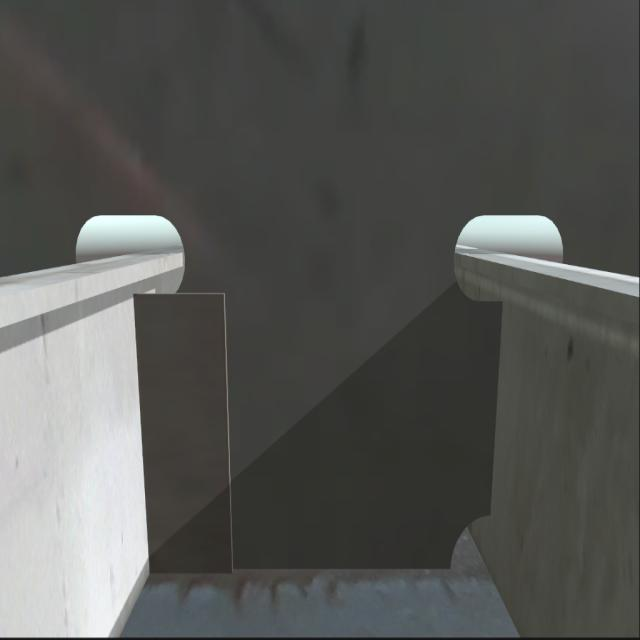fillet_hole: (446, 514, 490, 568)
fillet_yong_jeop_jang: (132, 545, 456, 581)
longi_yong_jeop_jang: (132, 277, 158, 583), (479, 286, 507, 521)
plate_CP01: (143, 287, 229, 578)
